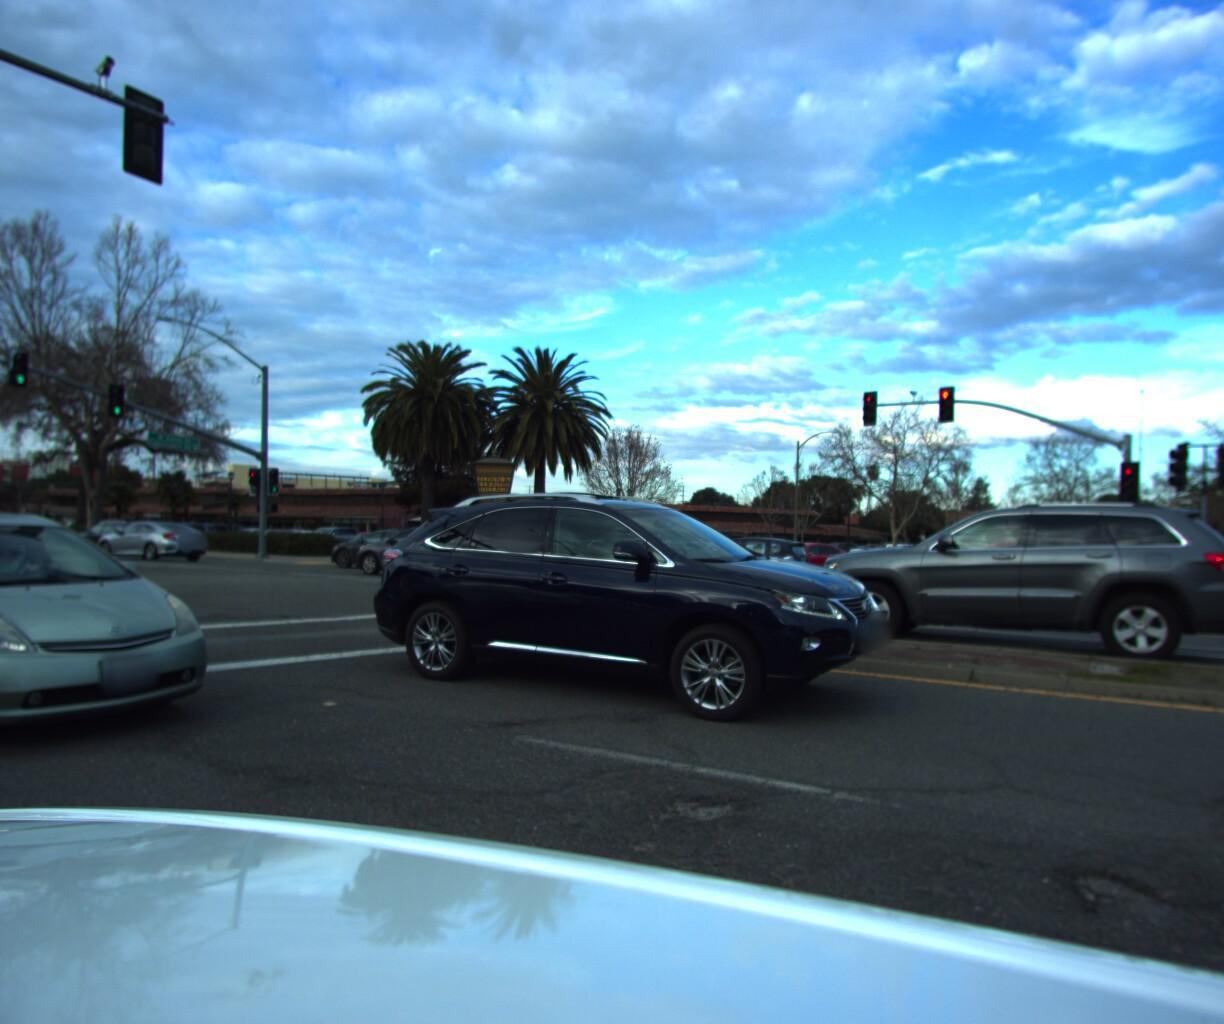car: (365, 483, 918, 740), (818, 501, 1224, 678), (0, 507, 241, 783), (1041, 536, 1224, 642), (655, 528, 819, 590), (341, 520, 507, 580), (324, 520, 465, 566), (88, 514, 215, 559), (731, 532, 857, 576), (825, 540, 907, 574), (879, 534, 952, 564), (1202, 546, 1224, 630)
